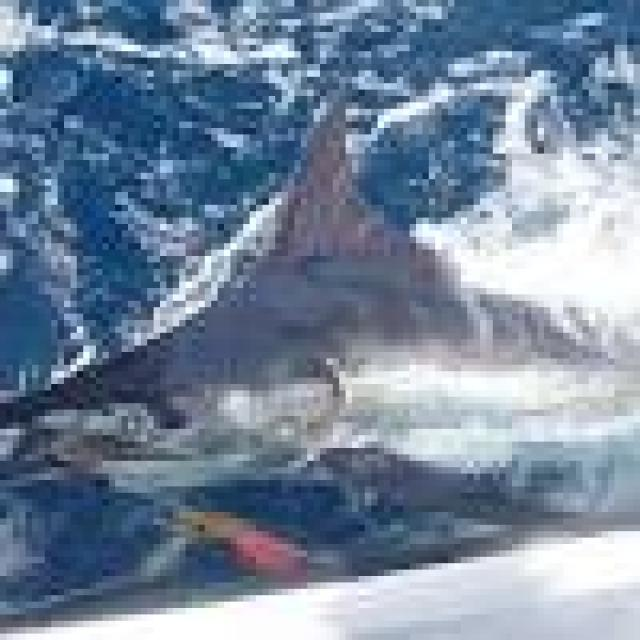Blue Marlin: (6, 83, 640, 525)
